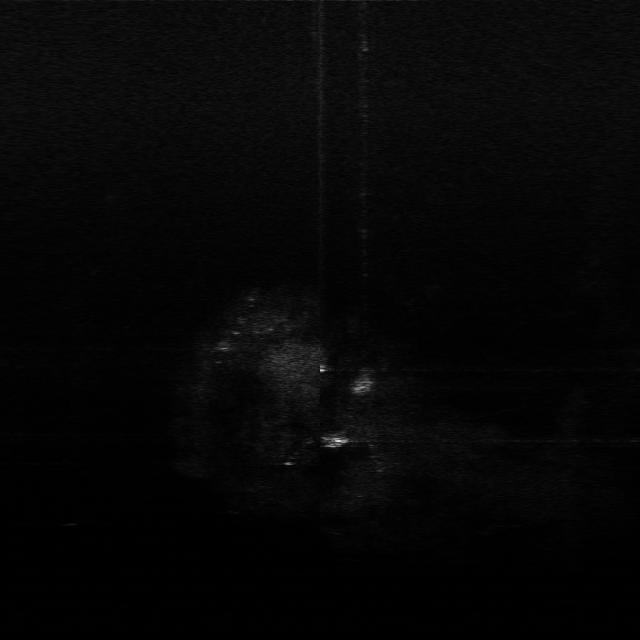rov: (319, 431, 352, 450)
